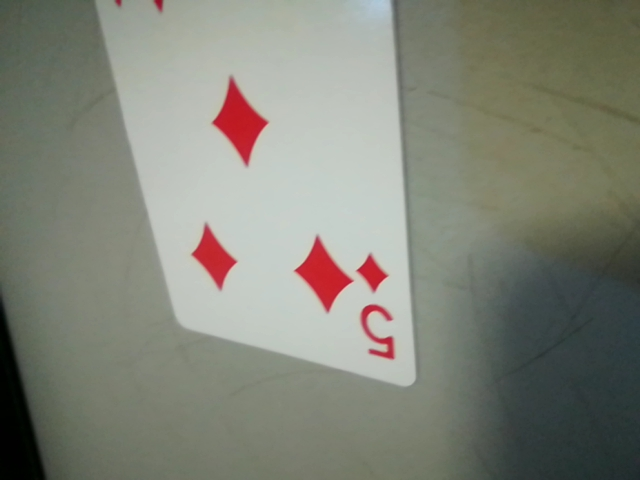fk 5: (347, 239, 407, 375)
